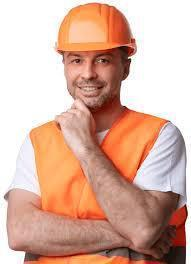helmet: (54, 2, 138, 52)
